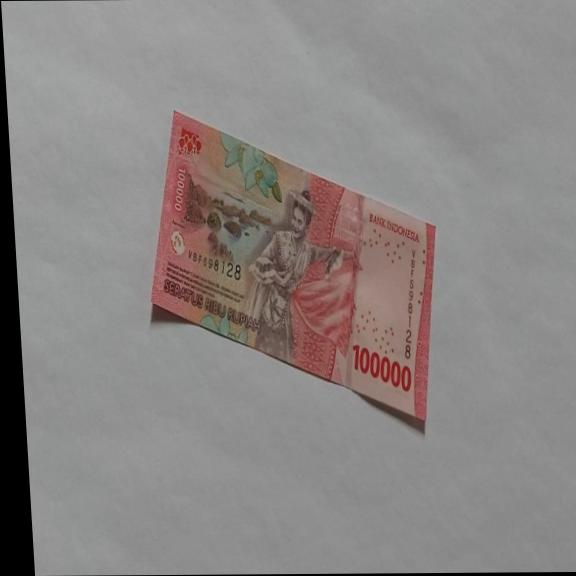Kertas: (350, 343, 413, 394)
